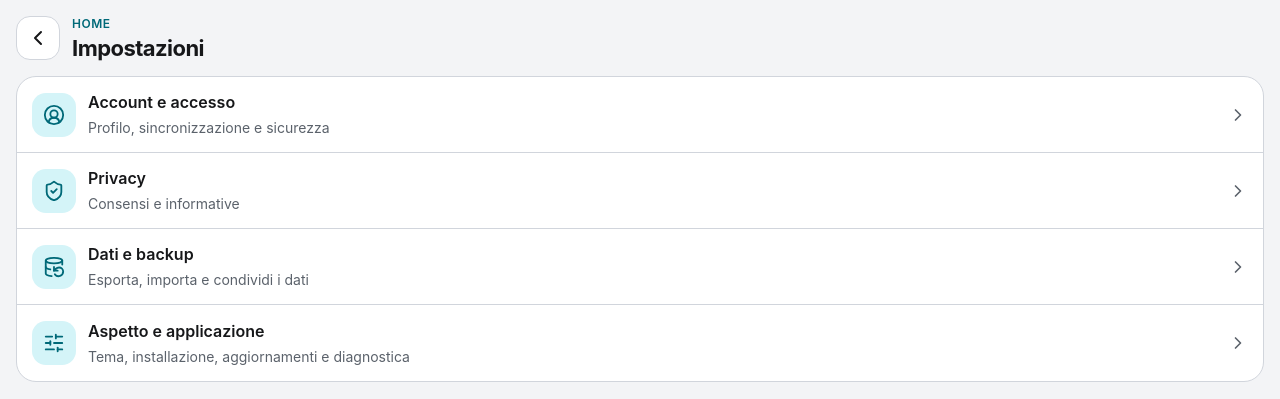
Test case: A11Y-01: Keyboard Accessibility for Sub-Navigation › SettingsView hierarchical menu uses native buttons and accessible back navigation
The width and height of the screenshot is (1280, 399).
Expected: the heading "Impostazioni" is shown, [72,35,204,61]
Click the button "Privacy Consensi e informative". click: (54, 190)
box: [17,153,1263,229]
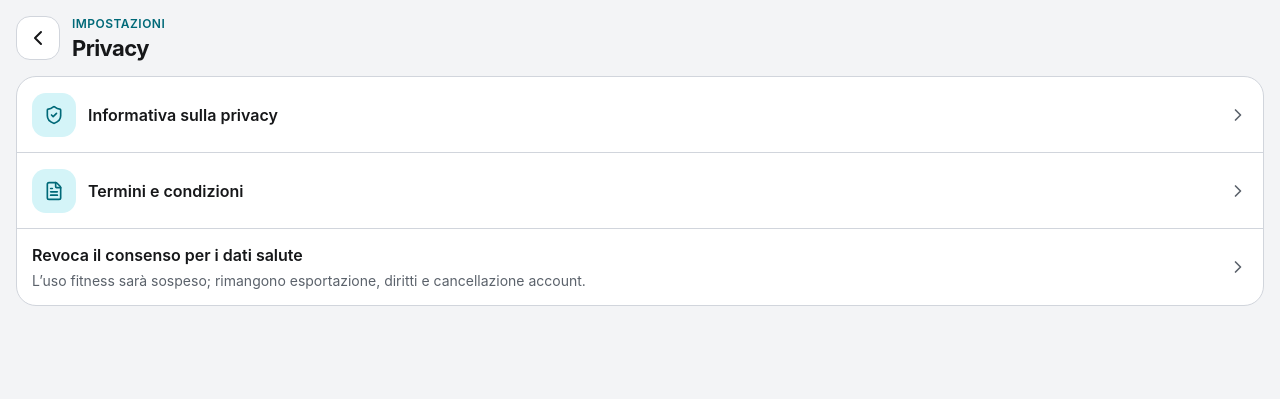
Expected: the button named "Torna alle impostazioni" is shown, [16,16,60,60]
Expected: the heading "Privacy" is shown, [72,35,149,61]
